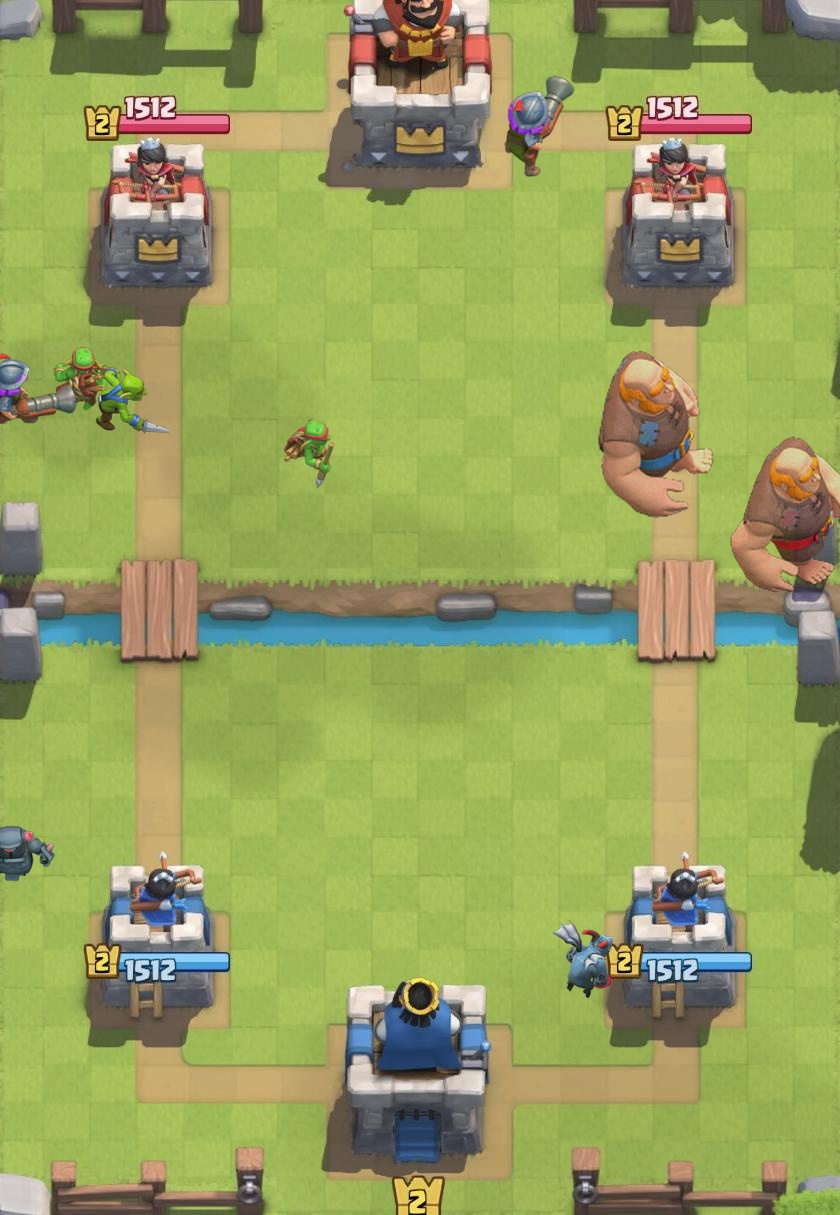giant_ally: (598, 350, 714, 519)
giant_enemy: (730, 436, 840, 593)
goblin_ally: (95, 367, 169, 434)
mekka_enemy: (0, 825, 55, 882)
minion_enemy: (552, 920, 613, 999)
musketeer_enemy: (504, 75, 575, 177), (0, 353, 77, 424)
spoblin_enemy: (53, 347, 117, 410), (283, 418, 335, 489)
